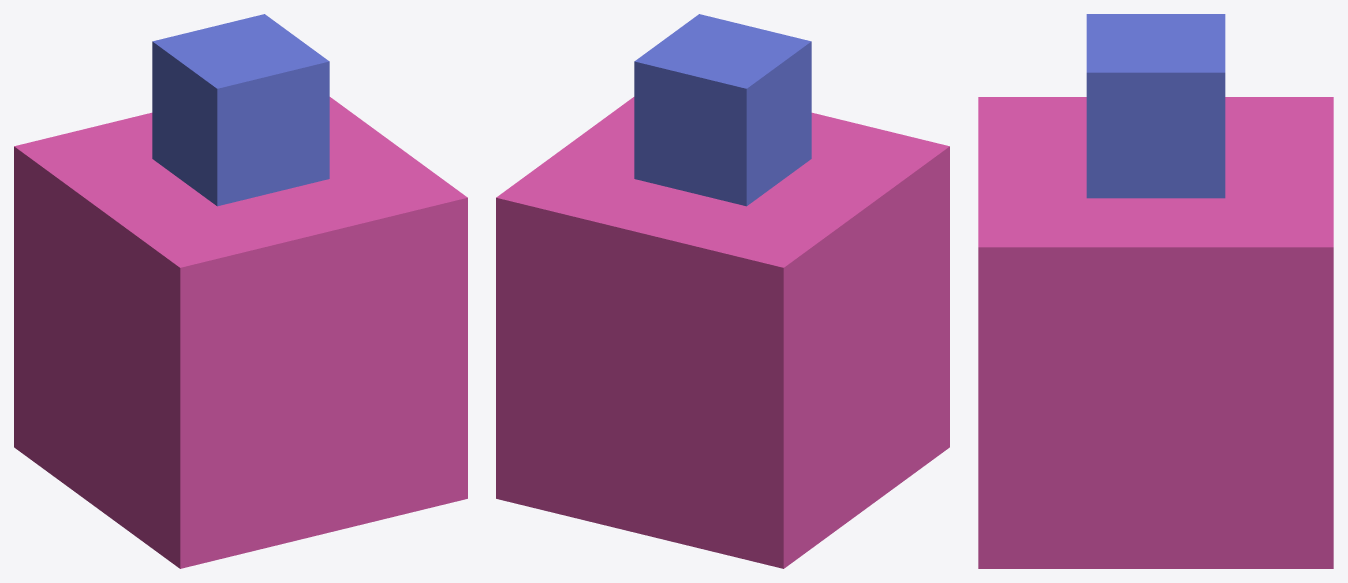
File: foo.glb
3 views of the same model, side by side, from view 1: azimuth 30°, elevation 25°; view 2: azimuth 150°, elevation 25°; view 3: azimuth 270°, elevation 25° (orthographic). The views are drawn at different scales.
Visible parts, largest first — view 1: Body, Head; view 2: Body, Head; view 3: Body, Head.
Part boxes in pixels (left/top/right/bottom): Body: left=14, top=97, right=467, bottom=568; Head: left=152, top=14, right=329, bottom=206; Body: left=496, top=97, right=949, bottom=568; Head: left=634, top=14, right=811, bottom=206; Body: left=978, top=97, right=1333, bottom=568; Head: left=1086, top=14, right=1225, bottom=198.
Size of the model in its own units: 2 by 2.8 by 2.
